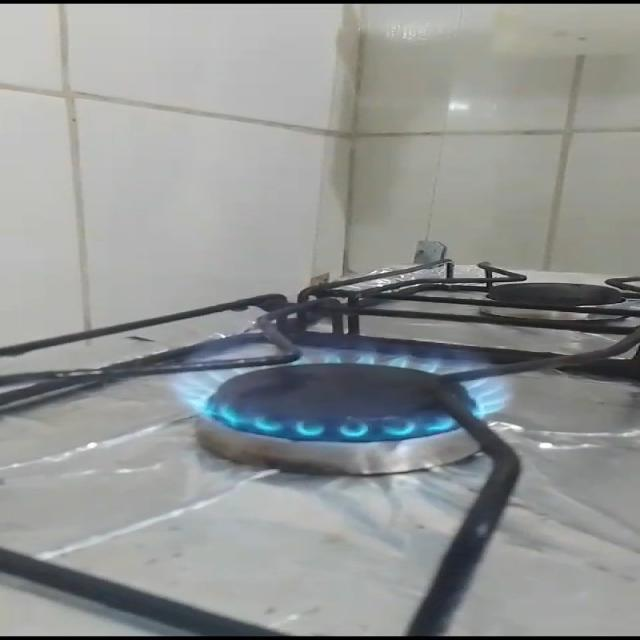fogo-ypXI: (163, 323, 517, 444)
